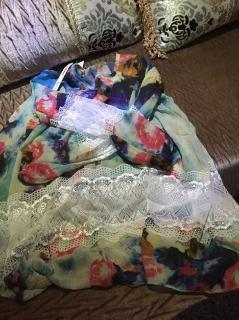long sleeve top: (0, 53, 239, 304)
